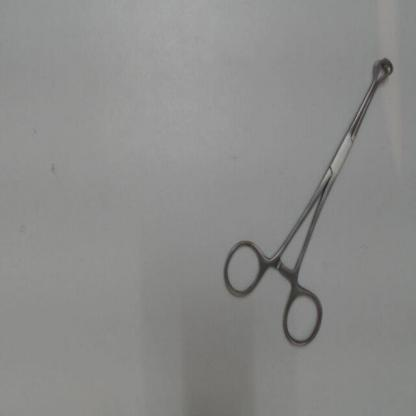Babcock Tissue Forceps: (219, 51, 396, 353)
